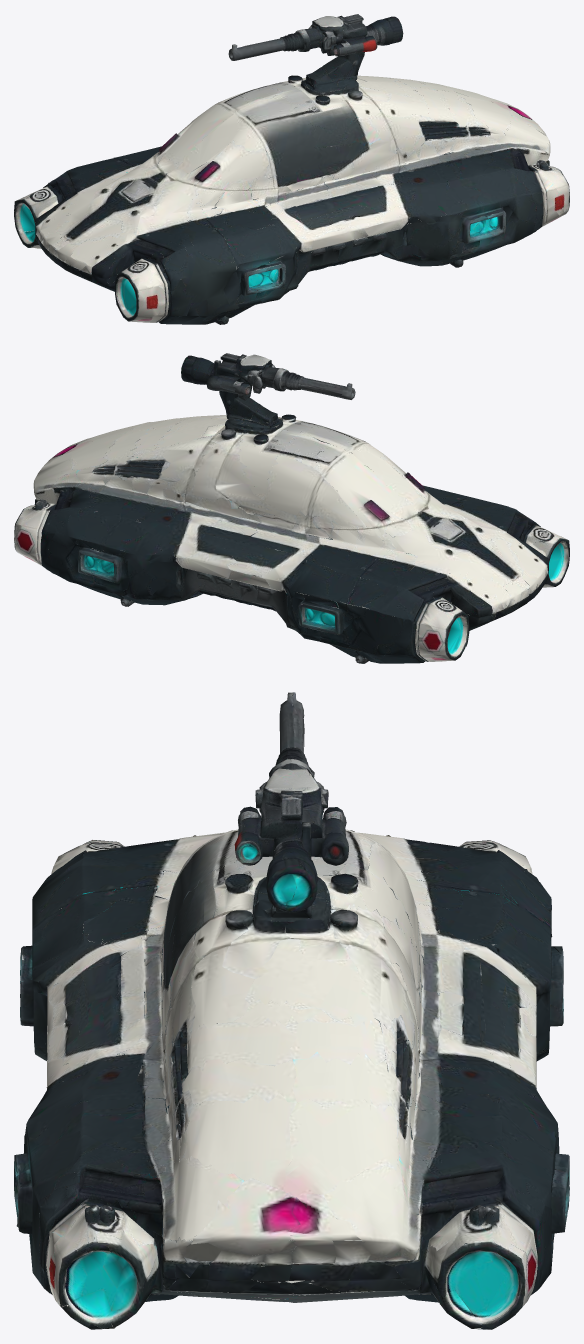
The model's file is ping.glb.
The picture shows the model from 3 angles, top to bottom: view 1: azimuth 30°, elevation 25°; view 2: azimuth 150°, elevation 25°; view 3: azimuth 270°, elevation 25°; orthographic projection. The views are drawn at different scales.
Parts seen in each view (by area): view 1: Mesh_0; view 2: Mesh_0; view 3: Mesh_0.
Part boxes in pixels (x1,y1,x2,y2): Mesh_0: (14, 14, 569, 324); Mesh_0: (14, 353, 569, 663); Mesh_0: (14, 692, 569, 1329).
Bounding box in the file's own units: 1.9 × 0.8822 × 1.02.
1 material, 1 textured.
